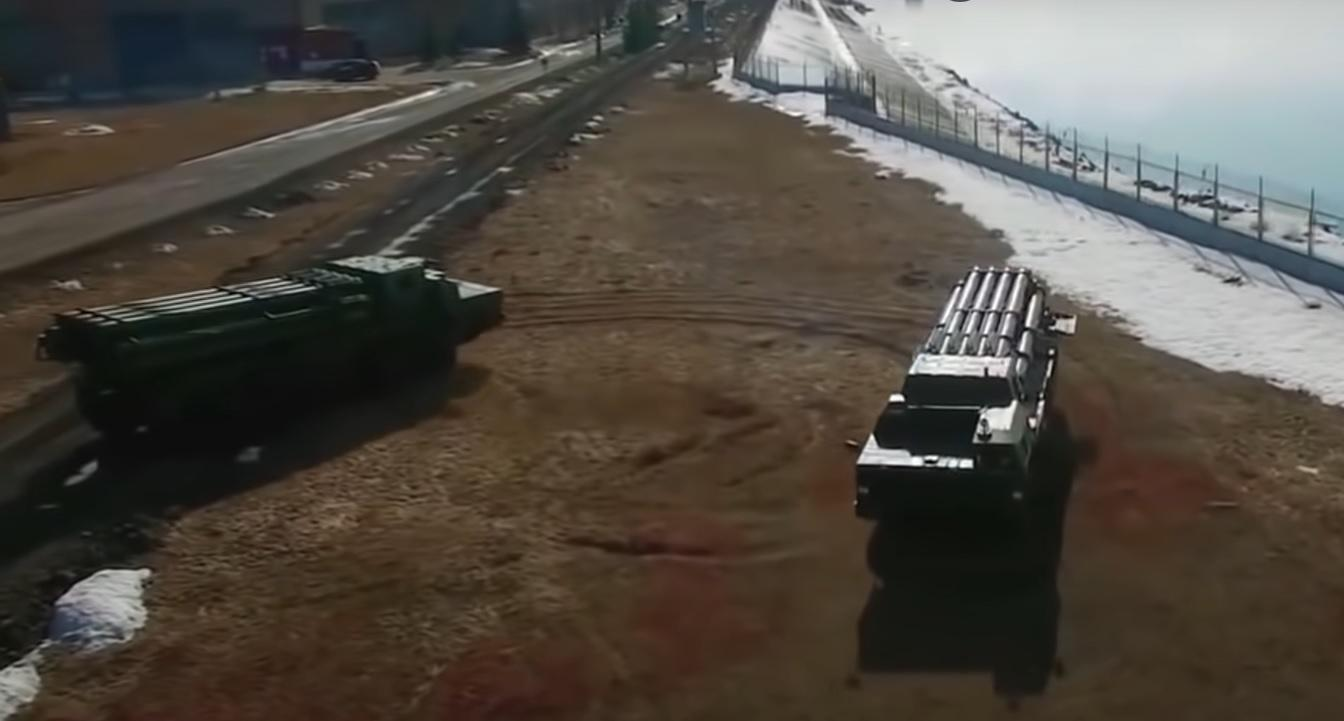MIL_SAM_TEL: (40, 250, 511, 464), (844, 255, 1066, 522)
